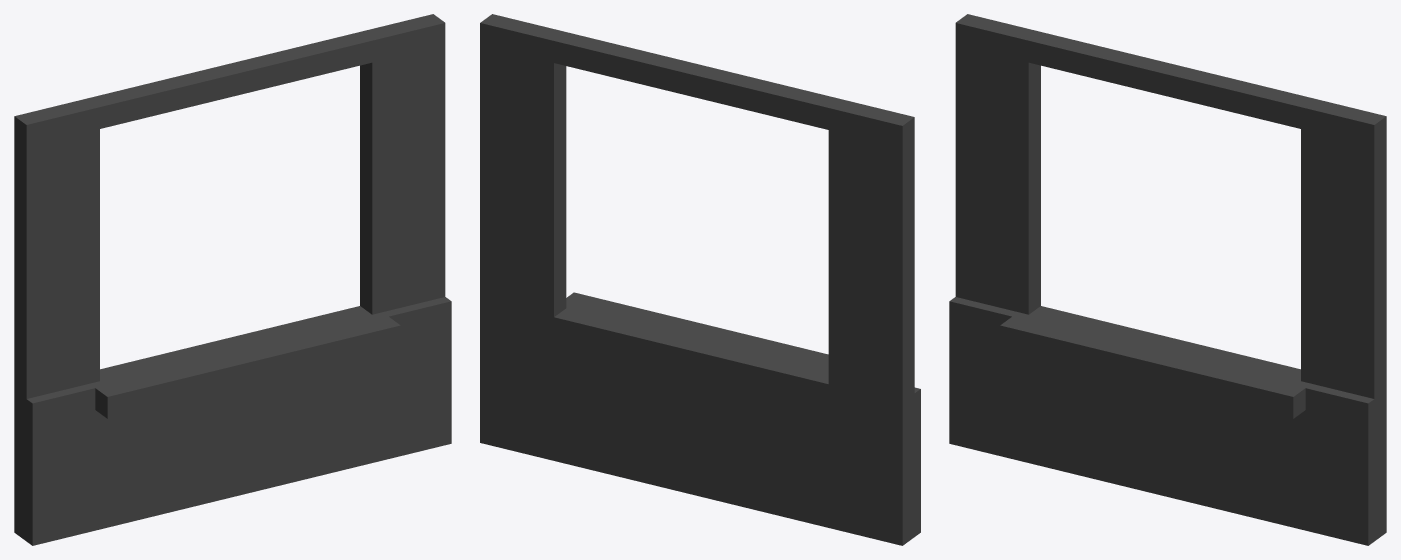
File: bsjghsdfgsd[-0-стена нижняя часть.obj
3 views of the same model, side by side, from view 1: azimuth 30°, elevation 25°; view 2: azimuth 150°, elevation 25°; view 3: azimuth 330°, elevation 25° (orthographic).
Visible parts, largest first — view 1: стена нижняя часть; view 2: стена нижняя часть; view 3: стена нижняя часть.
Boxes of the visible parts, left/top/right/bottom form: стена нижняя часть: left=14, top=14, right=451, bottom=545; стена нижняя часть: left=480, top=14, right=920, bottom=545; стена нижняя часть: left=949, top=14, right=1386, bottom=545.
Bounding box in the file's own units: 4 × 3.8 × 0.5.
